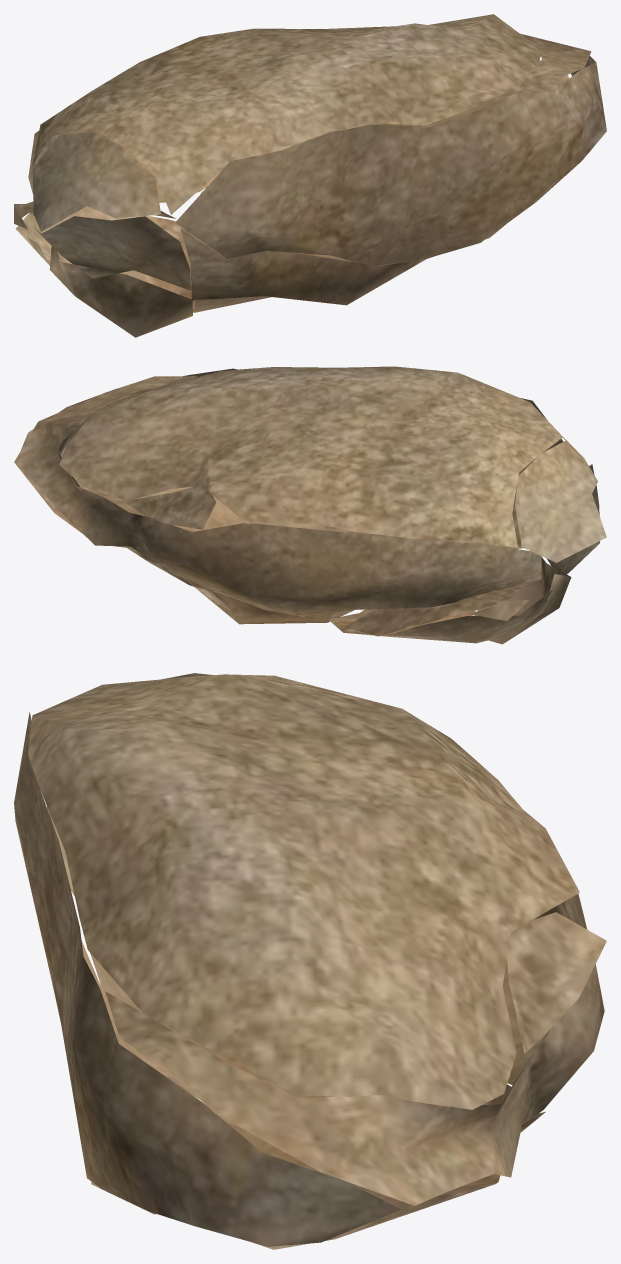
Rendered from boulder-b.glb.
The picture shows the model from 3 angles, top to bottom: view 1: azimuth 30°, elevation 25°; view 2: azimuth 150°, elevation 25°; view 3: azimuth 270°, elevation 25°; orthographic projection. The views are drawn at different scales.
Parts seen in each view (by area): view 1: namaqualand_boulder_05; view 2: namaqualand_boulder_05; view 3: namaqualand_boulder_05.
Boxes of the visible parts, bbox=[...] form: namaqualand_boulder_05: bbox=[14, 14, 606, 337]; namaqualand_boulder_05: bbox=[14, 366, 606, 644]; namaqualand_boulder_05: bbox=[14, 673, 606, 1249].
Size of the model in its own units: 1.35 by 0.5121 by 0.7341.
Materials: 1 (1 with a texture image).
